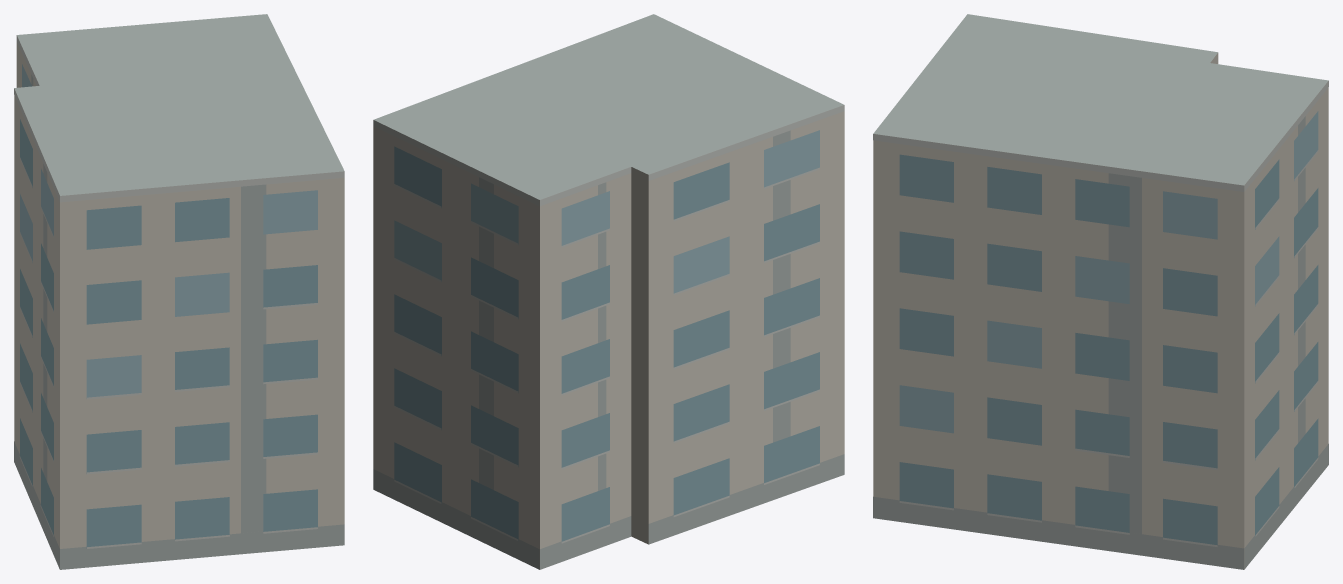
File: survey-upis-32883312.glb
3 renders of one model, left to right at view 1: azimuth 30°, elevation 25°; view 2: azimuth 150°, elevation 25°; view 3: azimuth 270°, elevation 25°, orthographic. The views are drawn at different scales.
Parts seen in each view (by area): view 1: survey-upis-32883312.tmp; view 2: survey-upis-32883312.tmp; view 3: survey-upis-32883312.tmp.
Boxes of the visible parts, x1=… form: survey-upis-32883312.tmp: x1=14, y1=14, x2=344, y2=569; survey-upis-32883312.tmp: x1=373, y1=14, x2=844, y2=569; survey-upis-32883312.tmp: x1=873, y1=14, x2=1328, y2=569.
Size of the model in its own units: 13.69 by 14.3 by 15.37.
